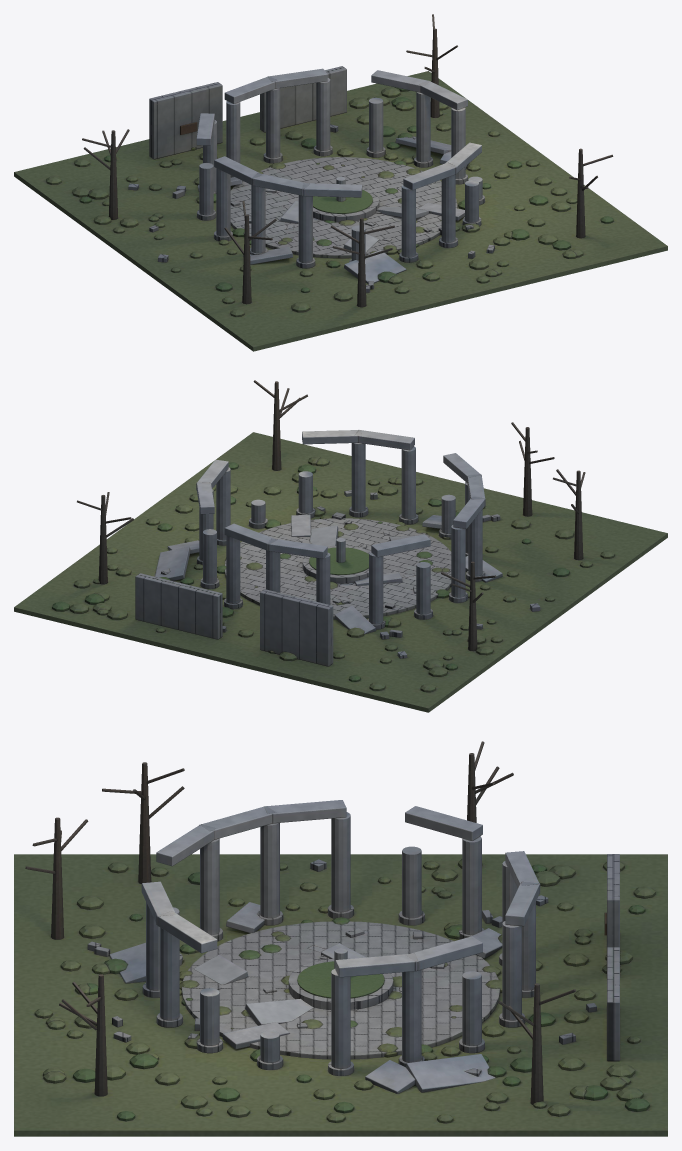
File: ruins.glb
3 renders of one model, top to bottom at view 1: azimuth 30°, elevation 25°; view 2: azimuth 150°, elevation 25°; view 3: azimuth 270°, elevation 25°, orthographic. The views are drawn at different scales.
Parts seen in each view (by area): view 1: Shell, Furniture; view 2: Shell, Furniture; view 3: Shell, Furniture.
Part boxes in pixels (<box>): Shell: <box>14,66,667,351</box>; Furniture: <box>82,14,613,307</box>; Shell: <box>14,432,667,712</box>; Furniture: <box>77,380,585,658</box>; Shell: <box>14,854,667,1136</box>; Furniture: <box>25,741,596,1104</box>.
Size of the model in its own units: 30 by 6.48 by 30.
2 materials, 2 textured.
